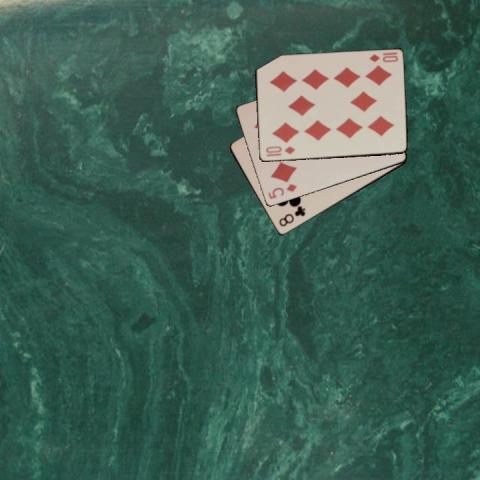10d: (366, 49, 399, 64), (263, 144, 296, 156)
5d: (265, 181, 298, 201)
8c: (276, 204, 307, 228)
